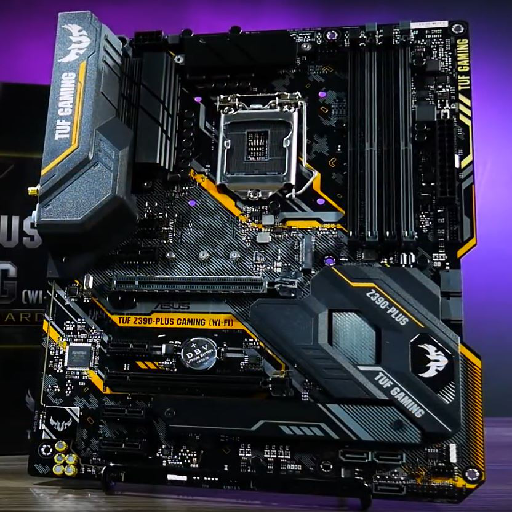CPU: (217, 107, 298, 202)
GPU: (103, 368, 296, 408), (110, 271, 299, 300)
MOTHERBOARD: (29, 8, 488, 503)
RAM: (345, 23, 417, 253)
SSD: (290, 235, 314, 270)
